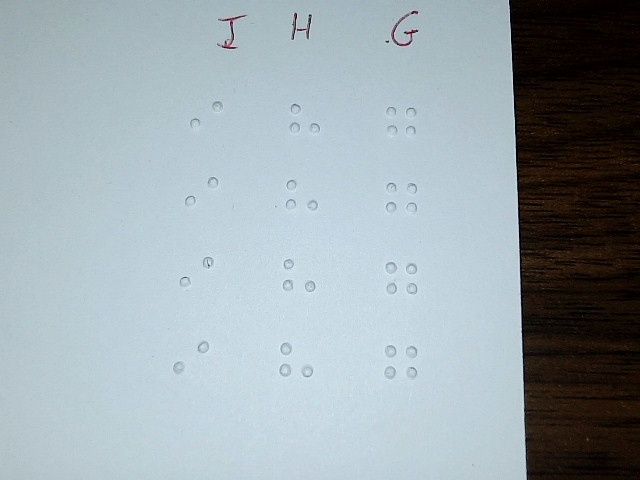G: (383, 95, 420, 152), (383, 171, 420, 228), (384, 252, 421, 309), (383, 335, 420, 392)
H: (286, 93, 323, 150), (285, 169, 322, 226), (281, 250, 318, 307), (277, 334, 314, 391)
I: (188, 90, 225, 147), (183, 167, 220, 224), (179, 247, 216, 304), (173, 331, 210, 388)
